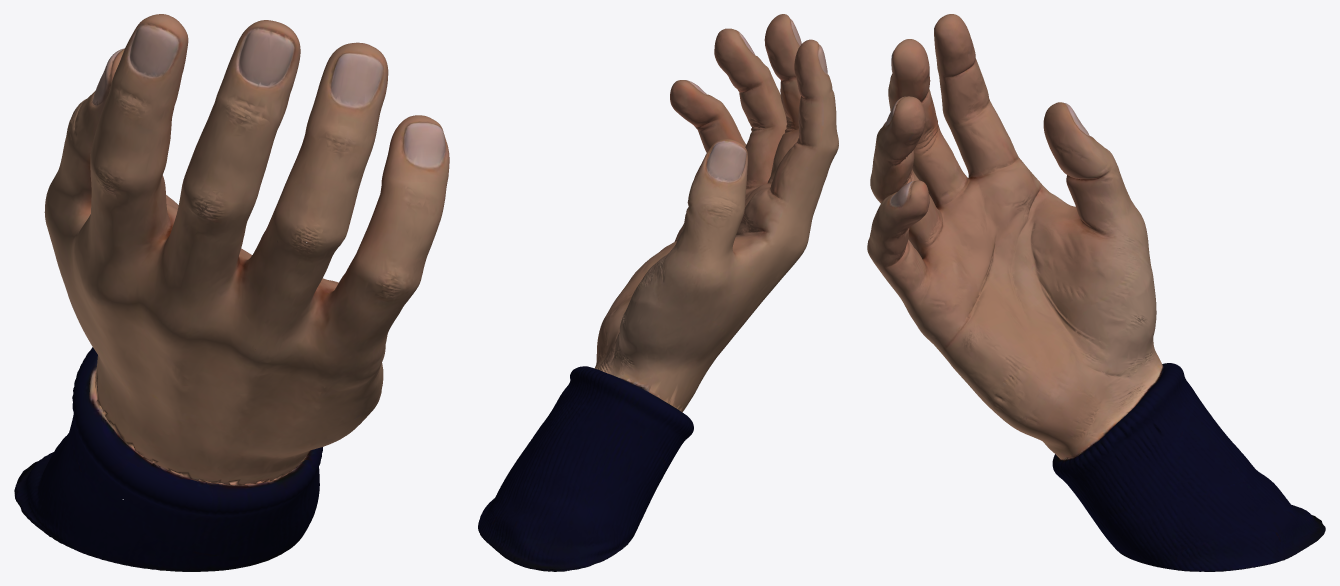
File: bond-human-hand.glb
The picture shows the model from 3 angles, left to right: view 1: azimuth 30°, elevation 25°; view 2: azimuth 150°, elevation 25°; view 3: azimuth 270°, elevation 25°; orthographic projection. The views are drawn at different scales.
Visible parts, largest first — view 1: tripo_node_7d224734-8465-4bd2-b386-7bdb3dd1dd93; view 2: tripo_node_7d224734-8465-4bd2-b386-7bdb3dd1dd93; view 3: tripo_node_7d224734-8465-4bd2-b386-7bdb3dd1dd93.
Boxes of the visible parts, bbox=[...] form: tripo_node_7d224734-8465-4bd2-b386-7bdb3dd1dd93: bbox=[14, 14, 449, 571]; tripo_node_7d224734-8465-4bd2-b386-7bdb3dd1dd93: bbox=[478, 14, 838, 571]; tripo_node_7d224734-8465-4bd2-b386-7bdb3dd1dd93: bbox=[867, 14, 1325, 571].
Bounding box in the file's own units: 0.113 × 0.2 × 0.1809.
Materials: 1 (1 with a texture image).
